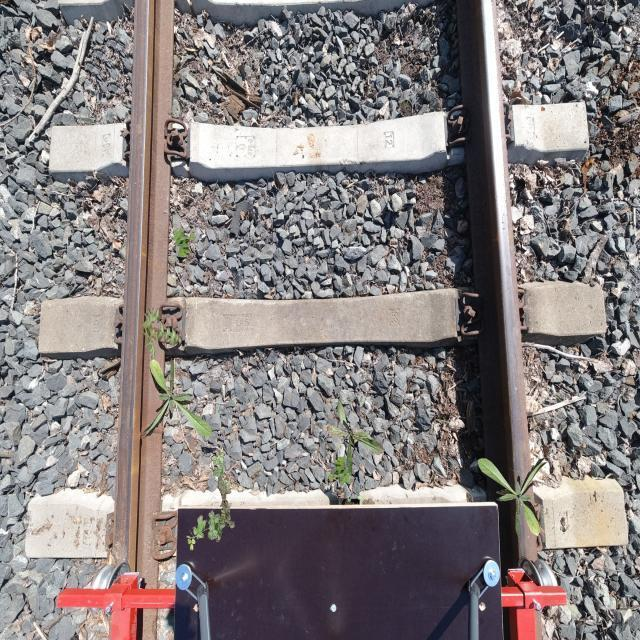Plant: (141, 358, 212, 439), (477, 457, 548, 538), (322, 396, 386, 480), (186, 447, 234, 550), (141, 307, 182, 361), (172, 227, 196, 258), (328, 456, 352, 486)
